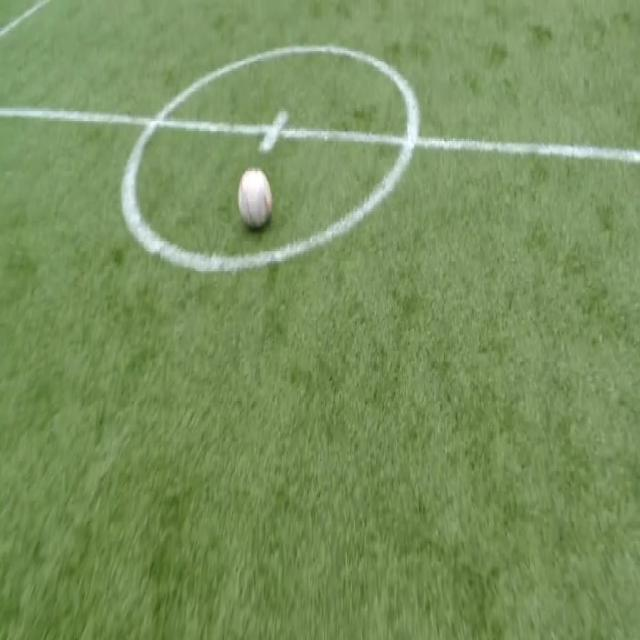ball: (238, 169, 272, 228)
